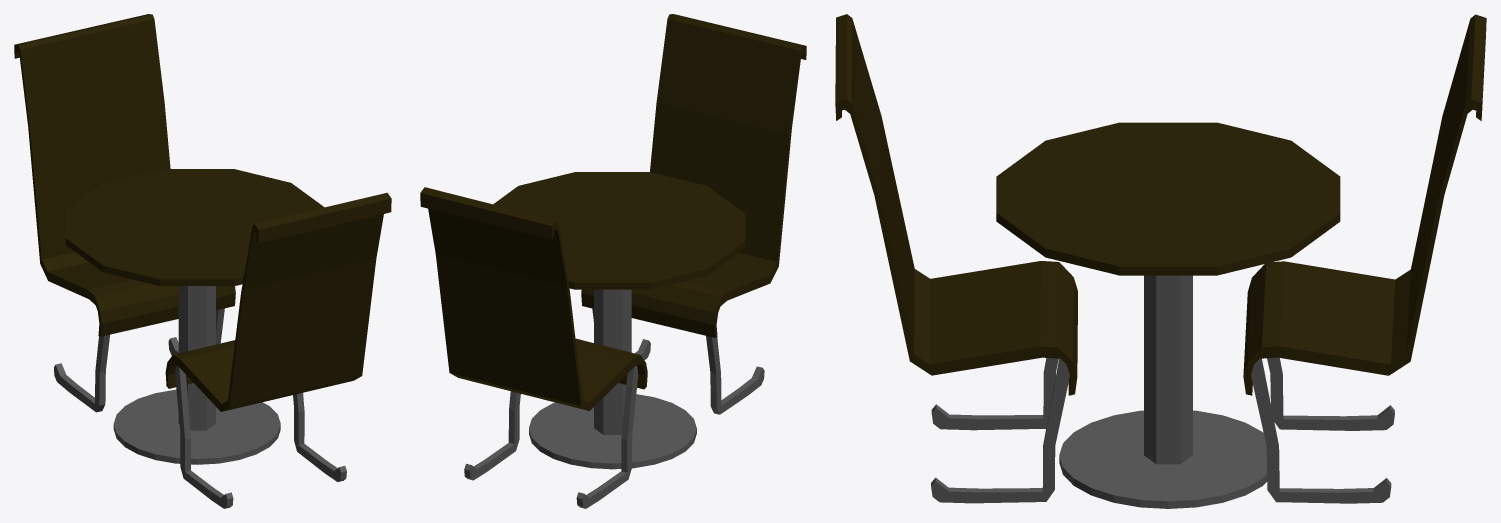
File: TableAChair.fbx
3 renders of one model, left to right at view 1: azimuth 30°, elevation 25°; view 2: azimuth 150°, elevation 25°; view 3: azimuth 270°, elevation 25°, orthographic. The views are drawn at different scales.
Visible parts, largest first — view 1: DownChair; view 2: DownChair; view 3: DownChair.
Part boxes in pixels (x1=…): DownChair: x1=14, y1=14, x2=391, y2=508; DownChair: x1=420, y1=14, x2=806, y2=508; DownChair: x1=835, y1=14, x2=1486, y2=508.
Size of the model in its own units: 0.8245 by 1.1 by 1.58.
